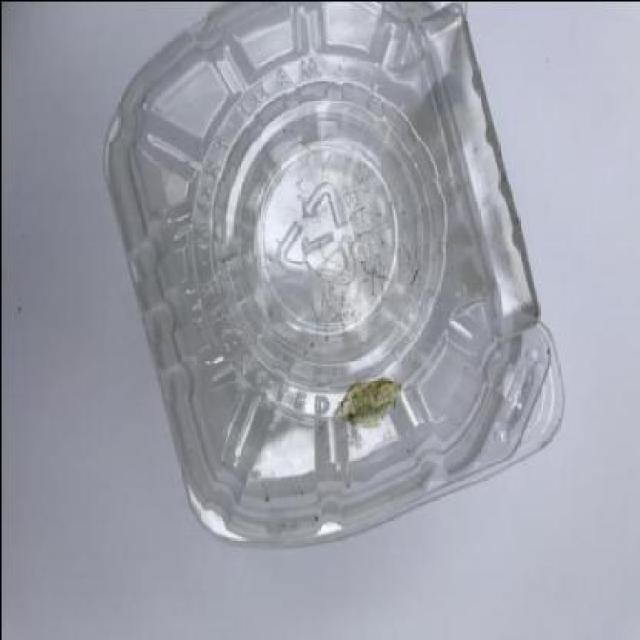PLASTIC: (100, 1, 568, 548)
